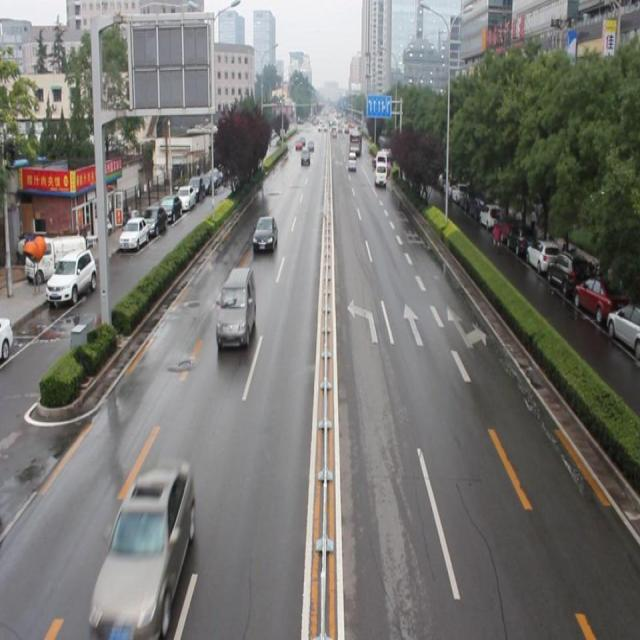car: (89, 460, 195, 634), (252, 213, 278, 254)
truck: (214, 266, 256, 351), (372, 161, 387, 186)
